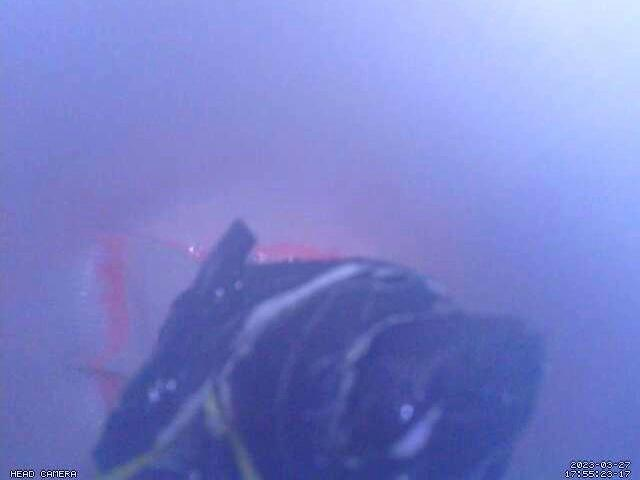head: (91, 231, 346, 409)
